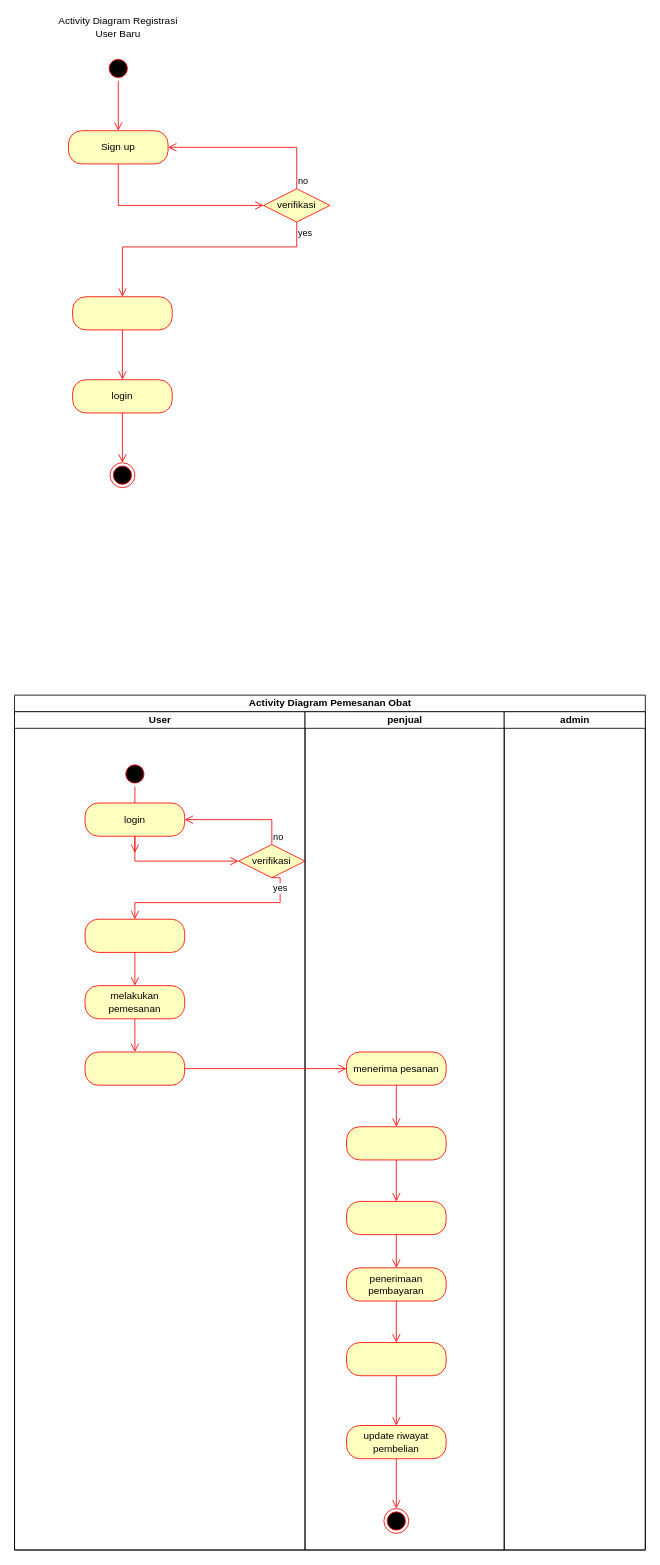
This 660x1565 diagram has some shape labels left out. Each missing label, with the centre of its shape:
"konfirmasi pemesanan" belongs at point (134, 1068).
"memilih obat" belongs at point (134, 935).
"pembuatan akun" belongs at point (122, 313).
"pemrosesan pesanan" belongs at point (396, 1218).
"update stok" belongs at point (396, 1359).
"verifikasi pesanan" belongs at point (396, 1143).
